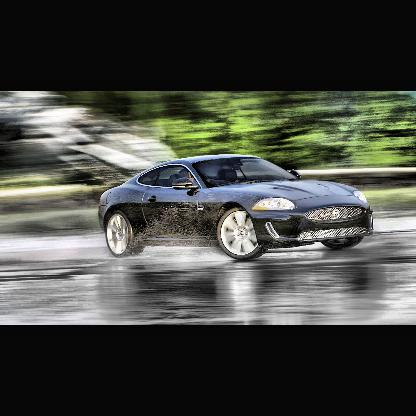Jaguar XK XKR 2012: (102, 156, 375, 260)
